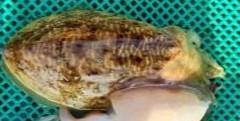Cephalopod: (3, 11, 224, 112)
